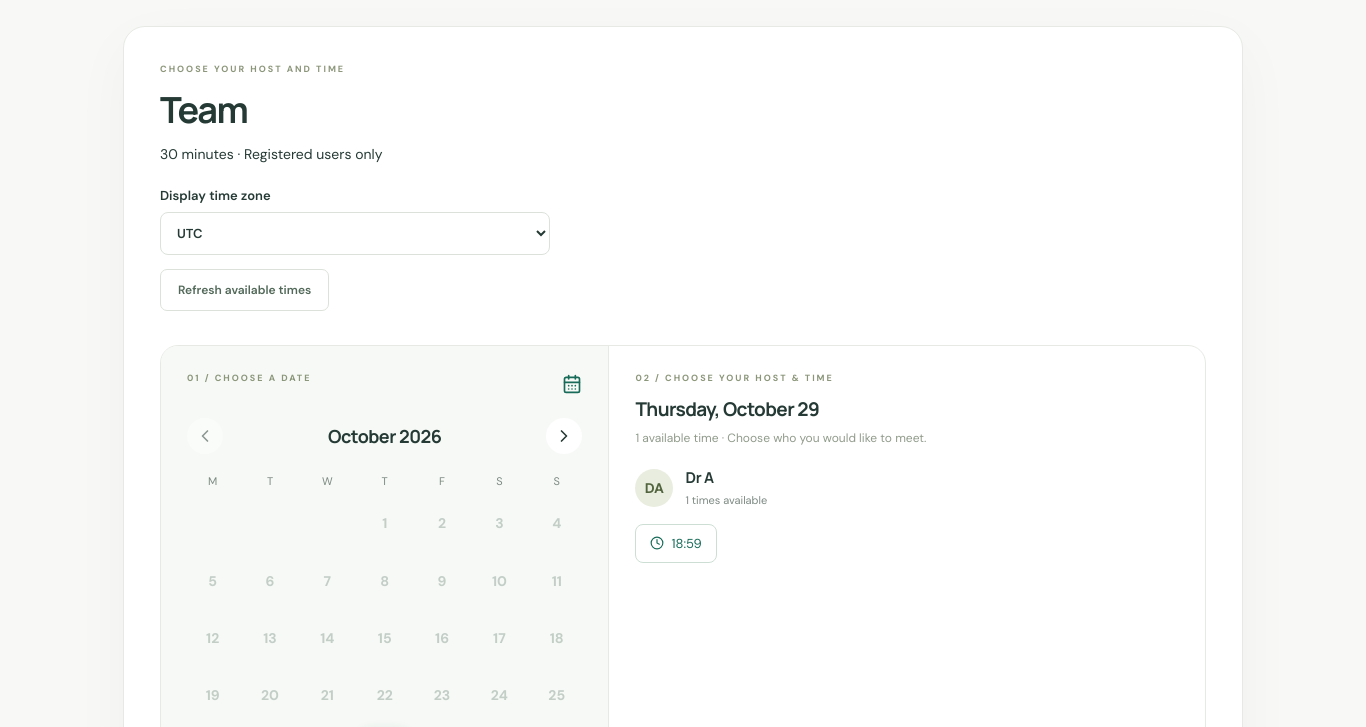
registered team meetings require login before exposing the booking form
The image size is (1366, 727).
Click the button named "Dr A". click: click(676, 543)
box: [635,524,717,563]
(page scrolled)
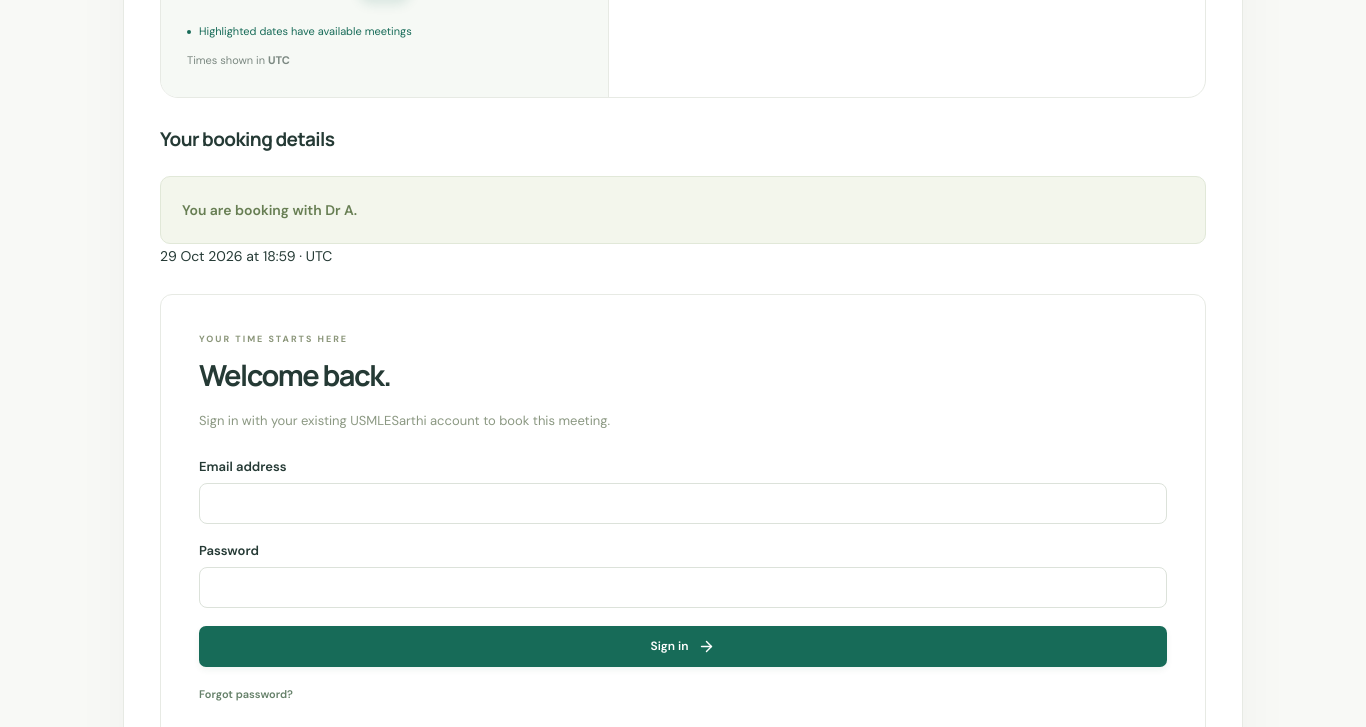
Now the heading "Welcome back." is shown, box [199,355,391,395]
